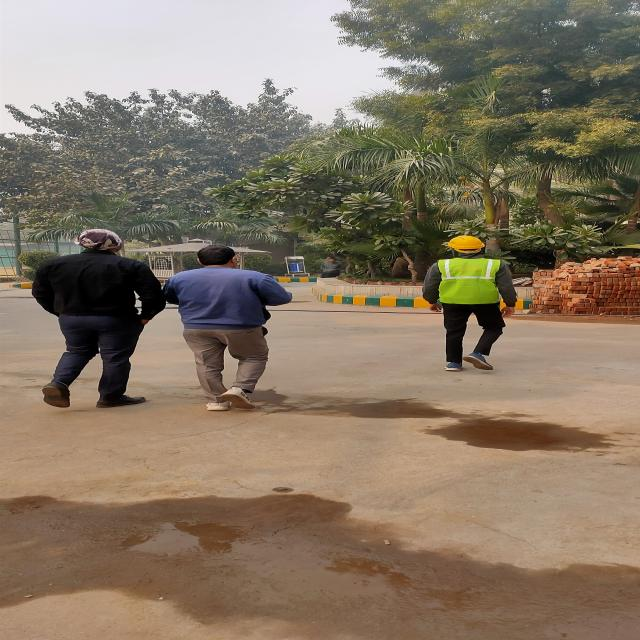safe: (419, 232, 516, 375)
unsafe: (32, 227, 172, 405), (166, 243, 293, 412)
